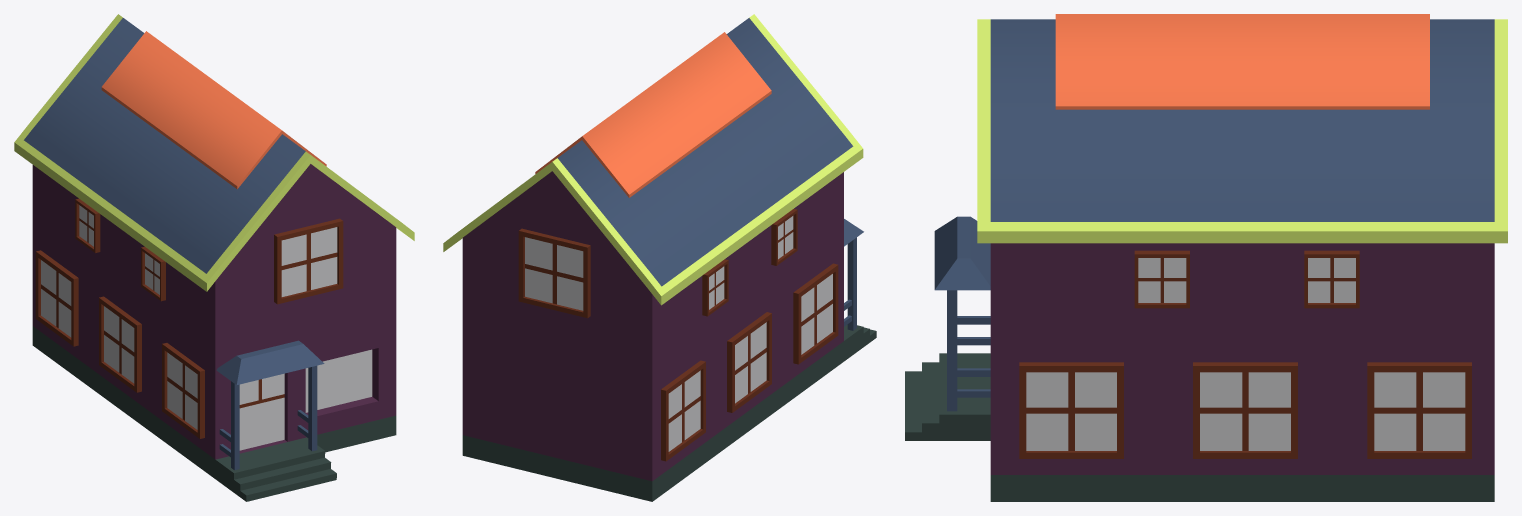
File: house2b.FBX
The picture shows the model from 3 angles, left to right: view 1: azimuth 30°, elevation 25°; view 2: azimuth 150°, elevation 25°; view 3: azimuth 270°, elevation 25°; orthographic projection. The views are drawn at different scales.
Parts seen in each view (by area): view 1: house2b; view 2: house2b; view 3: house2b.
Part boxes in pixels (x1,y1,x2,y2): house2b: (14, 14, 414, 501); house2b: (443, 14, 876, 501); house2b: (905, 14, 1507, 501).
Size of the model in its own units: 13.78 by 19.63 by 25.12.
